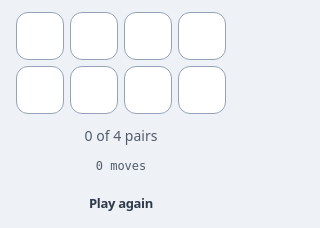
Scenario: 7.6 — memory cards › keeps a pair that matches
What coordinates should you click on to do the following:
click the button named "Card "
I would click on:
 (40, 36)
Its box is x1=16 y1=12 x2=64 y2=60.
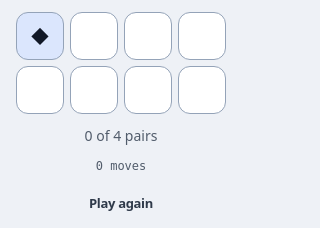
What coordinates should you click on to do the following:
click the button named "Card "
I would click on:
 (94, 36)
Its box is x1=70 y1=12 x2=118 y2=60.
Wait 600 ms
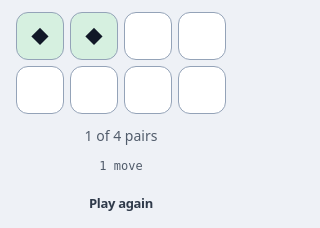
Expected: the text "1 of 4 pairs" is shown, x1=85 y1=126 x2=157 y2=146
Expected: the text "1 move" is shown, x1=99 y1=158 x2=143 y2=174
